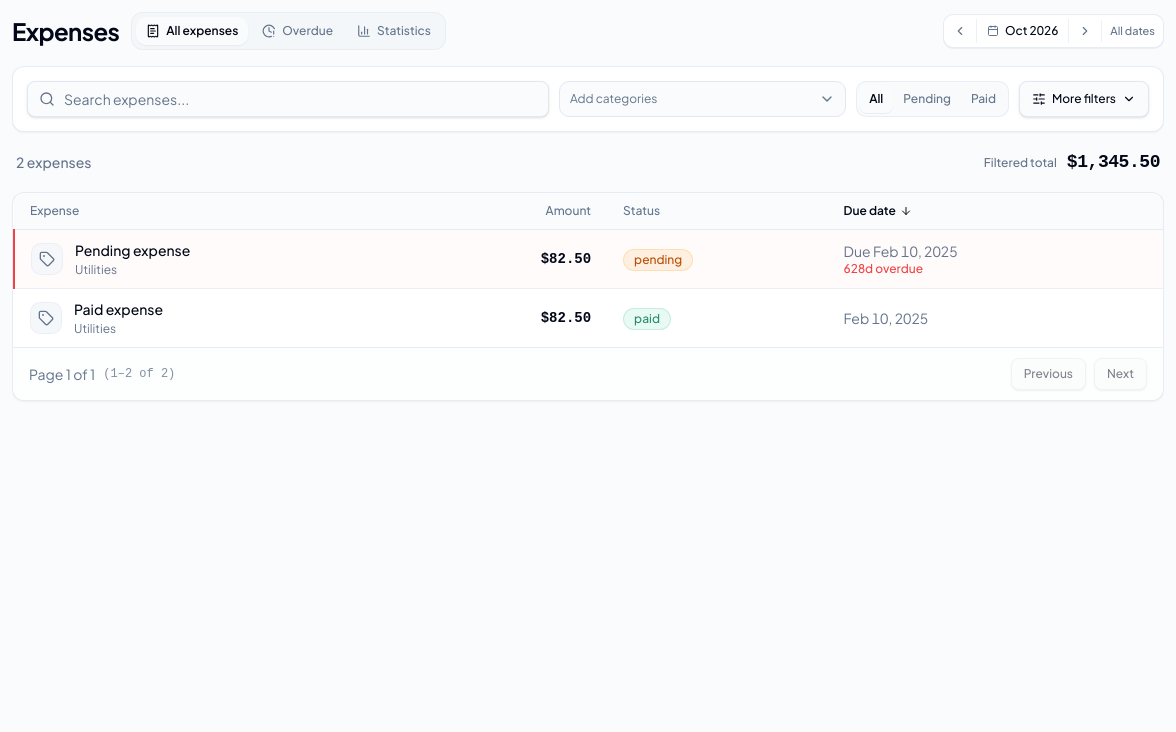
Test: expense filter requests › filters Paid and Pending, resets pagination, preserves other filters, and clears status
Expected: the text "2 expenses" is shown, [16,152,92,172]
Step 1. Click the button "More filters" → click(1084, 99), box [1019,81,1149,117]
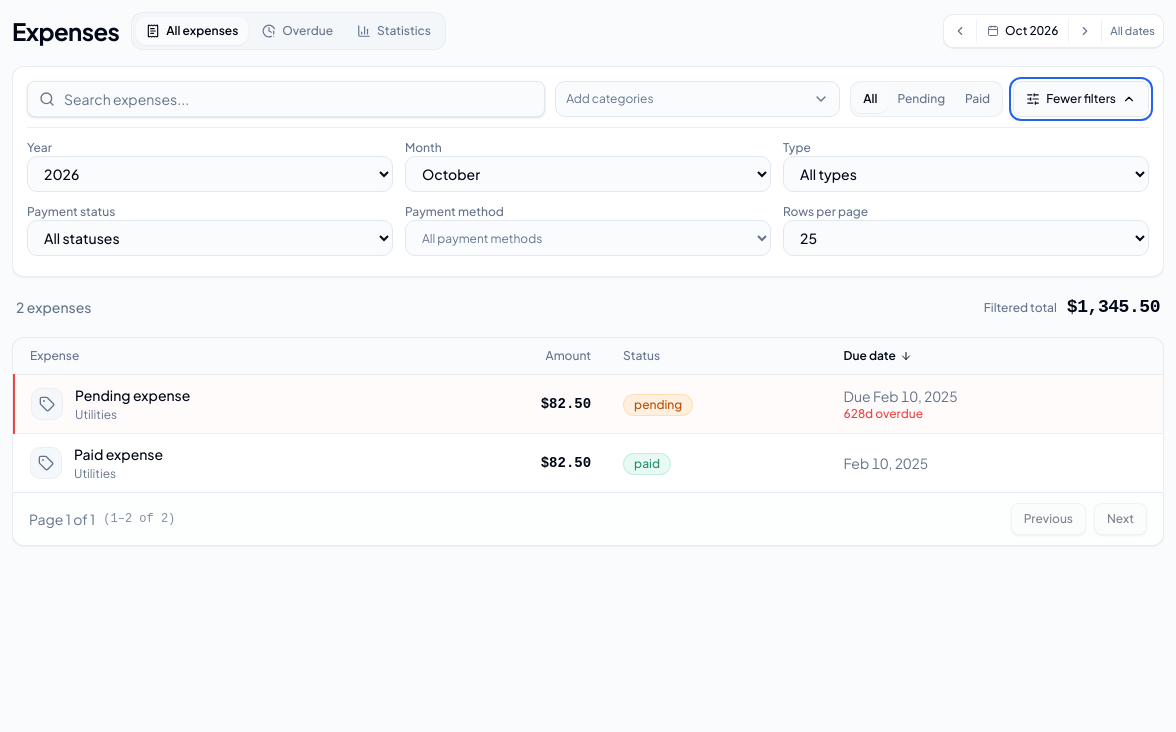
Expected: the dropdown labelled "Payment status" shows "All statuses", [27,220,393,256]
Step 2. Select "Normal" in the dropdown labelled "Type" → (966, 174), box [783,156,1149,192]
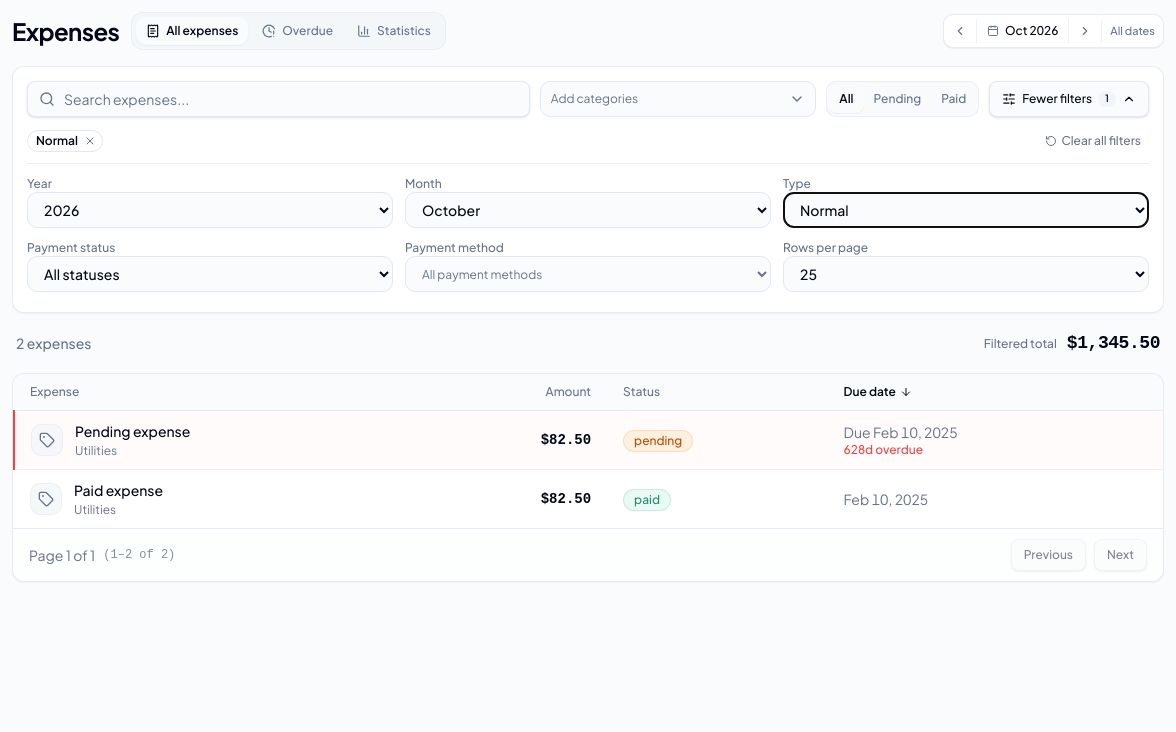
Expected: the text "2 expenses" is shown, [16,333,92,353]
Step 3. Select "Paid" in the dropdown labelled "Payment status" → (210, 274), box [27,256,393,292]
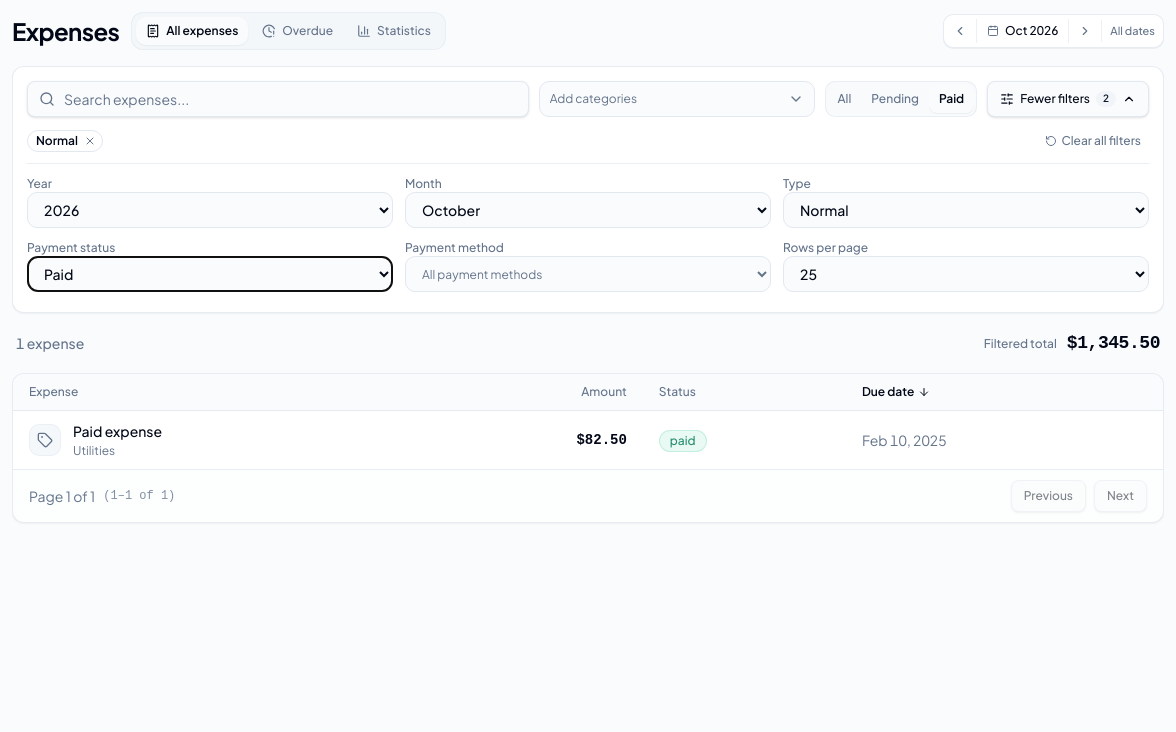
Expected: the link "Paid expense" is shown, [73,421,162,441]
Expected: the text "1 expense" is shown, [16,333,84,353]
Expected: the link "Pending expense" is gone
Step 4. Select "Pending" in the dropdown labelled "Payment status" → (210, 274), box [27,256,393,292]
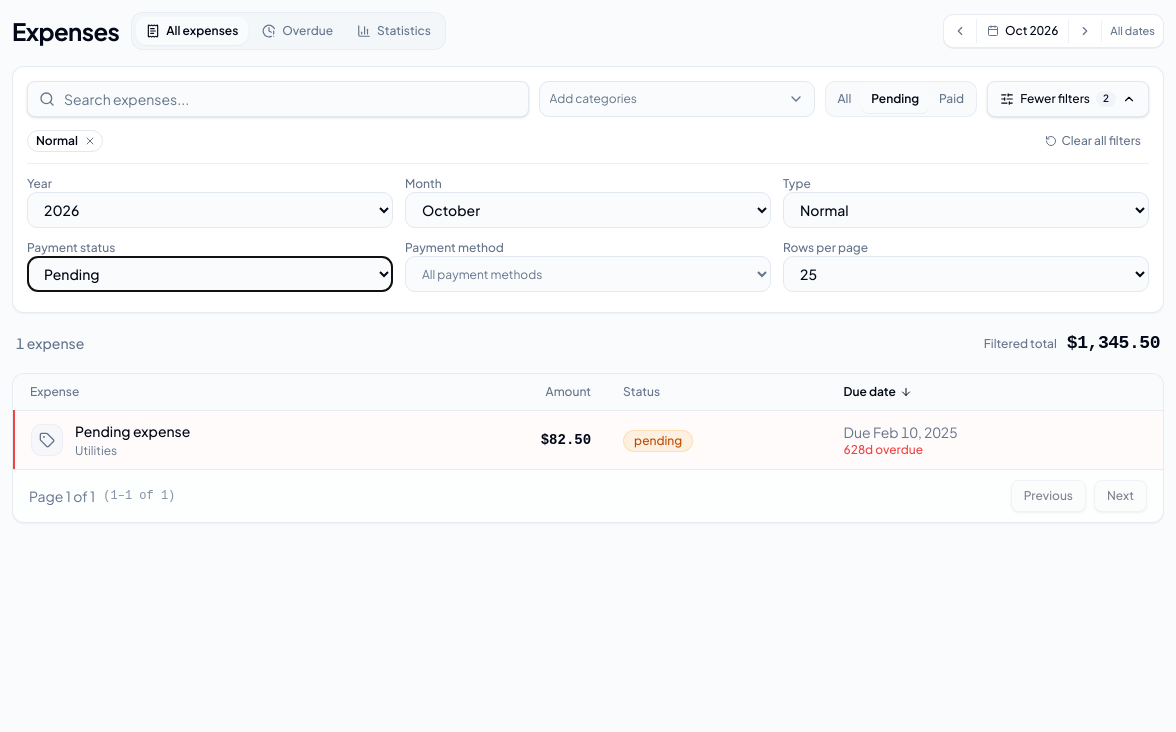
Expected: the link "Pending expense" is shown, [75,421,190,441]
Expected: the link "Paid expense" is gone
Step 5. Select "All statuses" in the dropdown labelled "Payment status" → (210, 274), box [27,256,393,292]
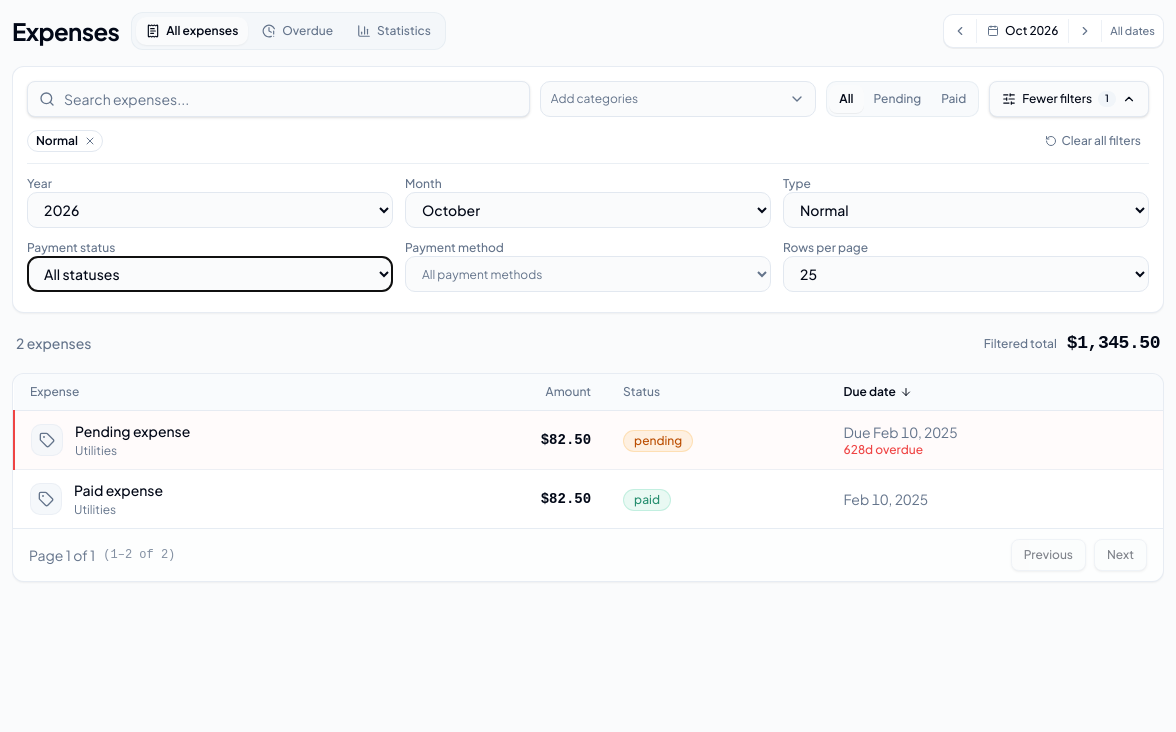
Expected: the text "2 expenses" is shown, [16,333,92,353]
Expected: the link "Paid expense" is shown, [74,480,163,500]
